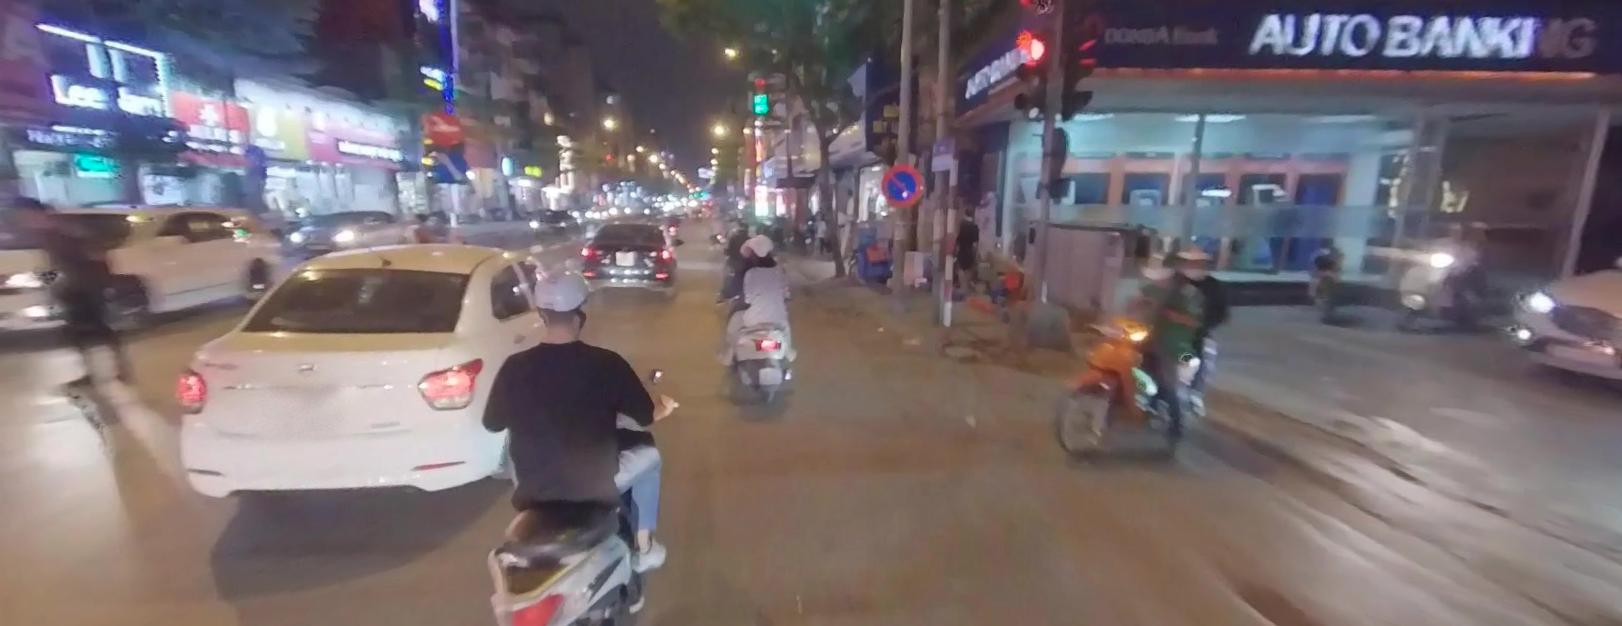Cam dung va do: (879, 163, 925, 207)
Cam nguoc chieu: (428, 115, 460, 144)
Hieu lenh: (431, 150, 465, 181)
